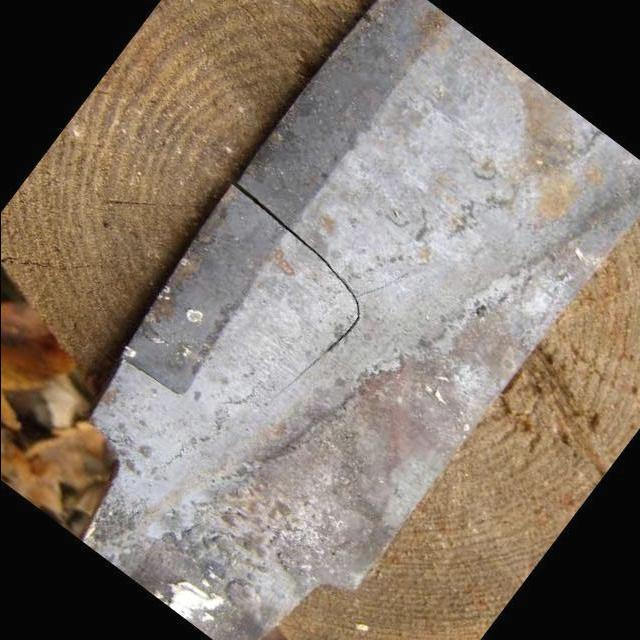defect: (233, 182, 367, 400)
